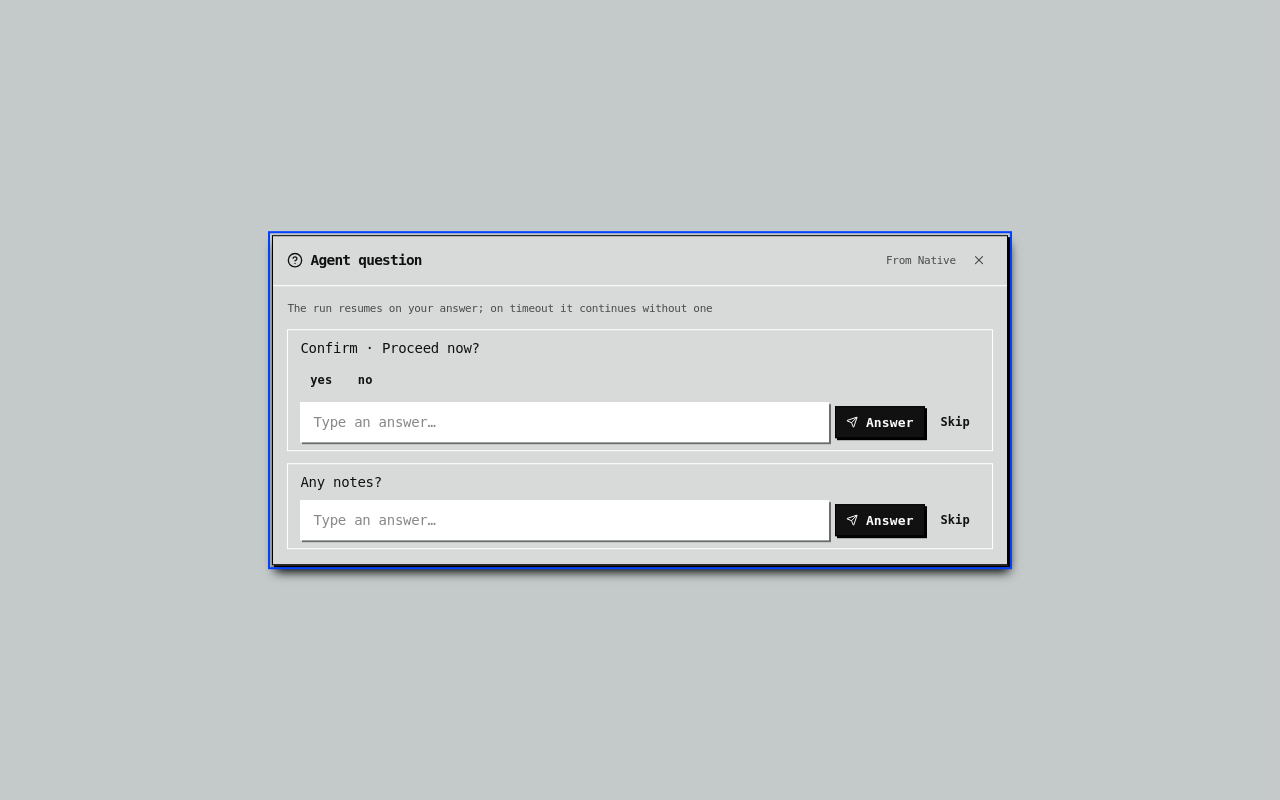
Scenario: AskUserModal › answers through an option chip and marks the question answered
The width and height of the screenshot is (1280, 800).
Click the button "yes".
click(321, 380)  # box top-left (300, 366), bottom-right (342, 394)
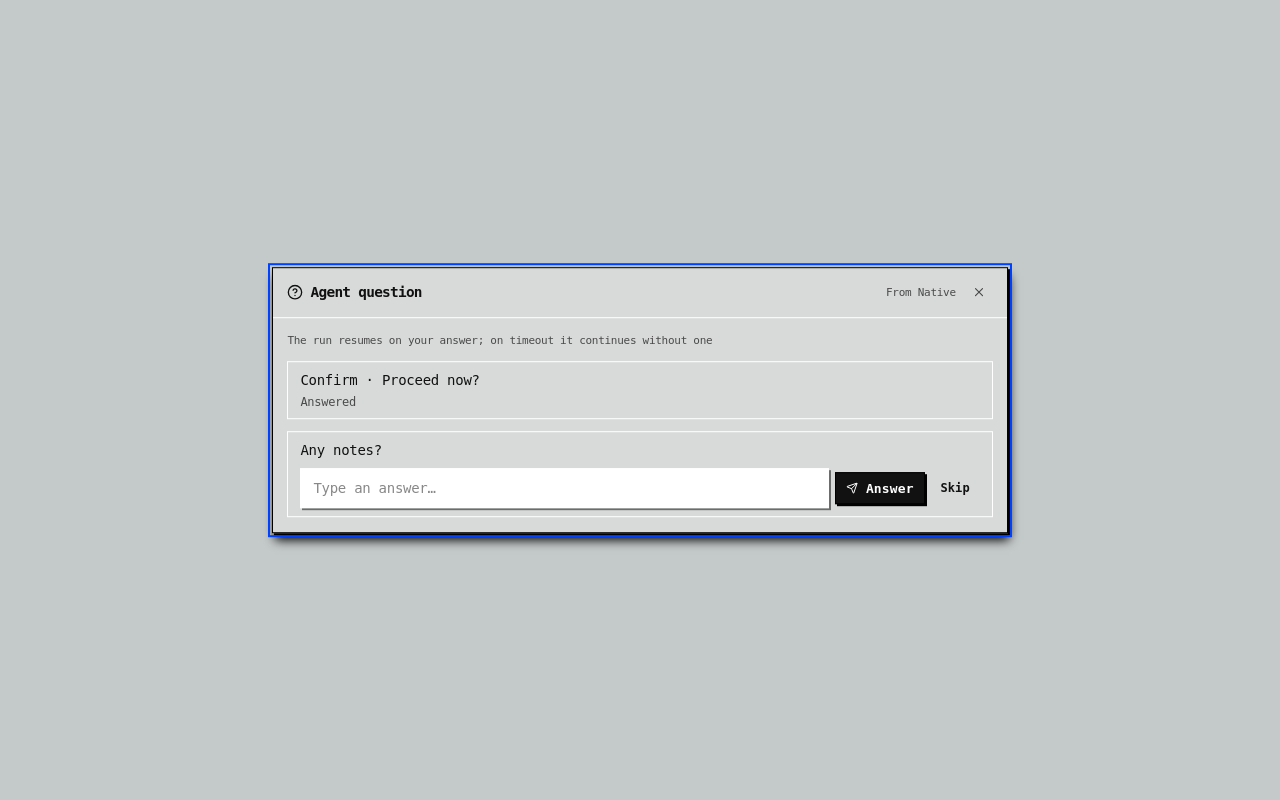
Result: the text "Answered" is shown at top-left (300, 395), bottom-right (356, 409)
